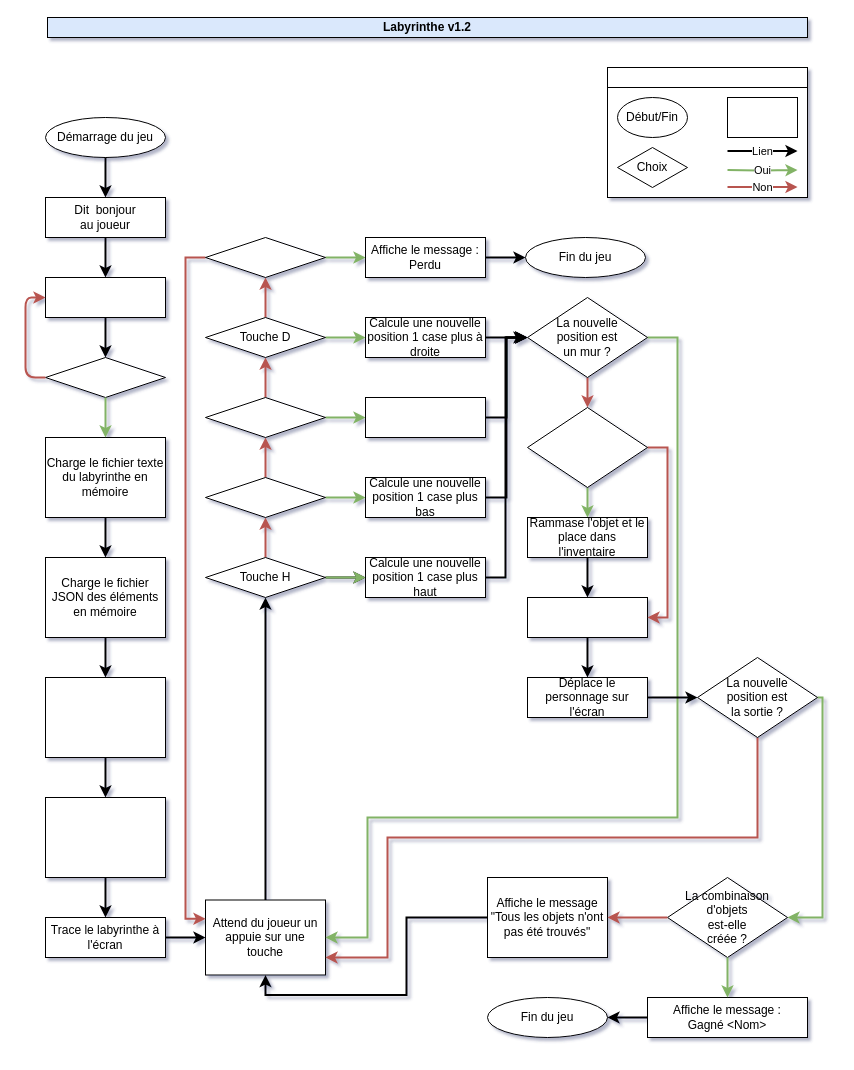
The diagram is 854 pixels wide and 1070 high, and some of its shapes have lost their labels. The shapes that lost their labels are listed below. From the top down, each one's centre as x and y in pixels, then its label:
At point 707,77: "Légende".
At point 762,117: "Action / Processus".
At point 265,257: "Touche Q".
At point 105,297: "Lui demande son nom".
At point 105,377: "Le nom est saisi ?".
At point 265,417: "Touche G".
At point 425,417: "Calcule une nouvelle position 1 case plus à gauche".
At point 587,447: "La nouvelle position est un objet ?".
At point 265,497: "Touche B".
At point 587,617: "Assigne la nouvelle position au personnage".
At point 105,717: "Place aléatoirement les objets dans le labyrinthe".
At point 105,837: "Place le personnage à l'entrée du labyrinthe".
